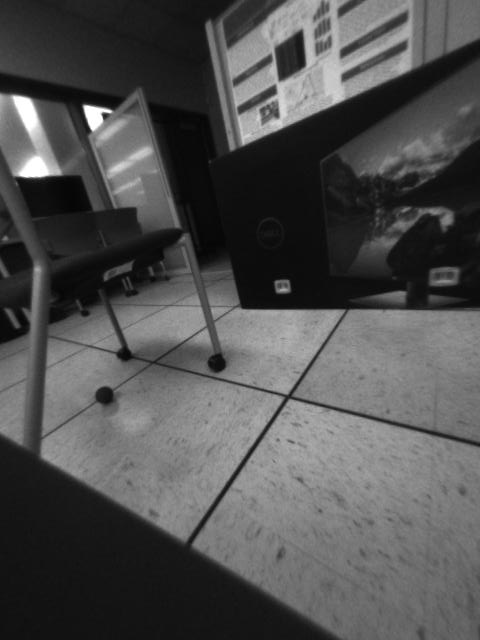dogtoy: (87, 379, 119, 408)
